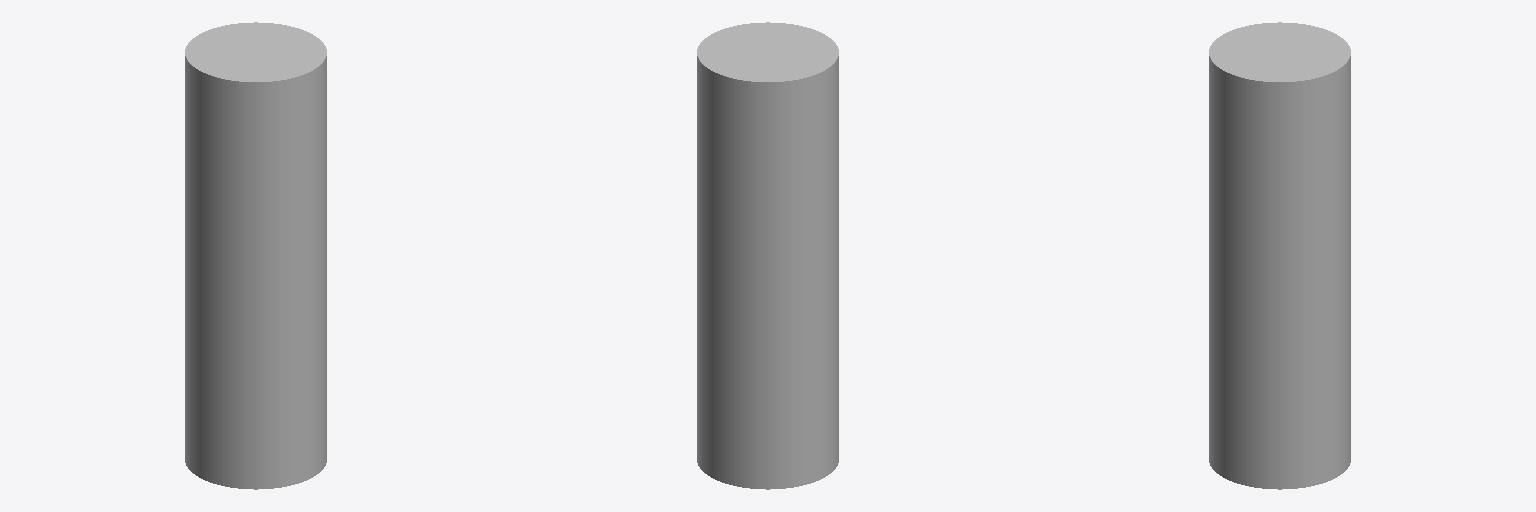
Rendered from yellowColumn.obj.
3 views of the same model, side by side, from view 1: azimuth 30°, elevation 25°; view 2: azimuth 150°, elevation 25°; view 3: azimuth 270°, elevation 25° (orthographic).
Visible parts, largest first — view 1: Cylinder_Cylinder.001; view 2: Cylinder_Cylinder.001; view 3: Cylinder_Cylinder.001.
Boxes of the visible parts, x1=… form: Cylinder_Cylinder.001: x1=185, y1=22, x2=326, y2=489; Cylinder_Cylinder.001: x1=697, y1=22, x2=838, y2=489; Cylinder_Cylinder.001: x1=1209, y1=22, x2=1350, y2=489.
Bounding box in the file's own units: 0.6924 × 2.19 × 0.6924.